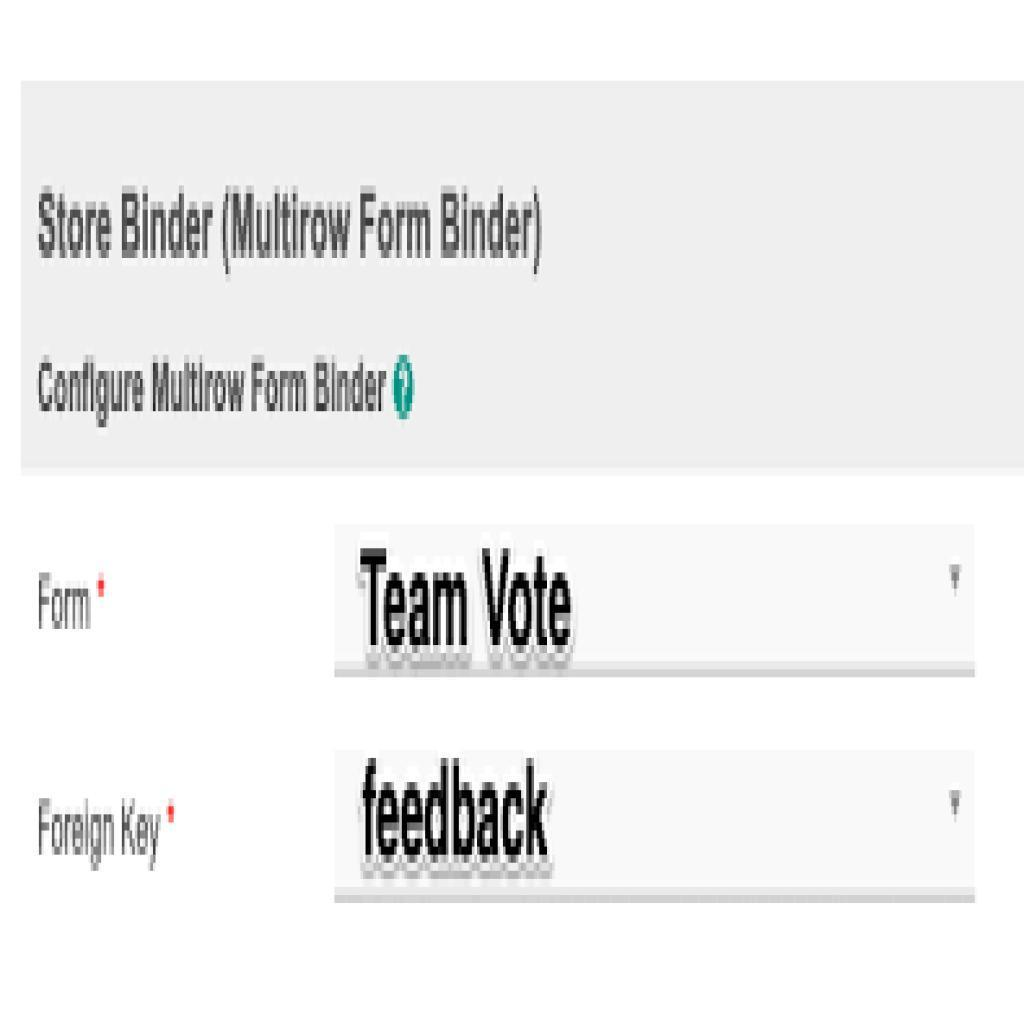dropdown: (342, 746, 976, 909), (335, 523, 977, 680)
